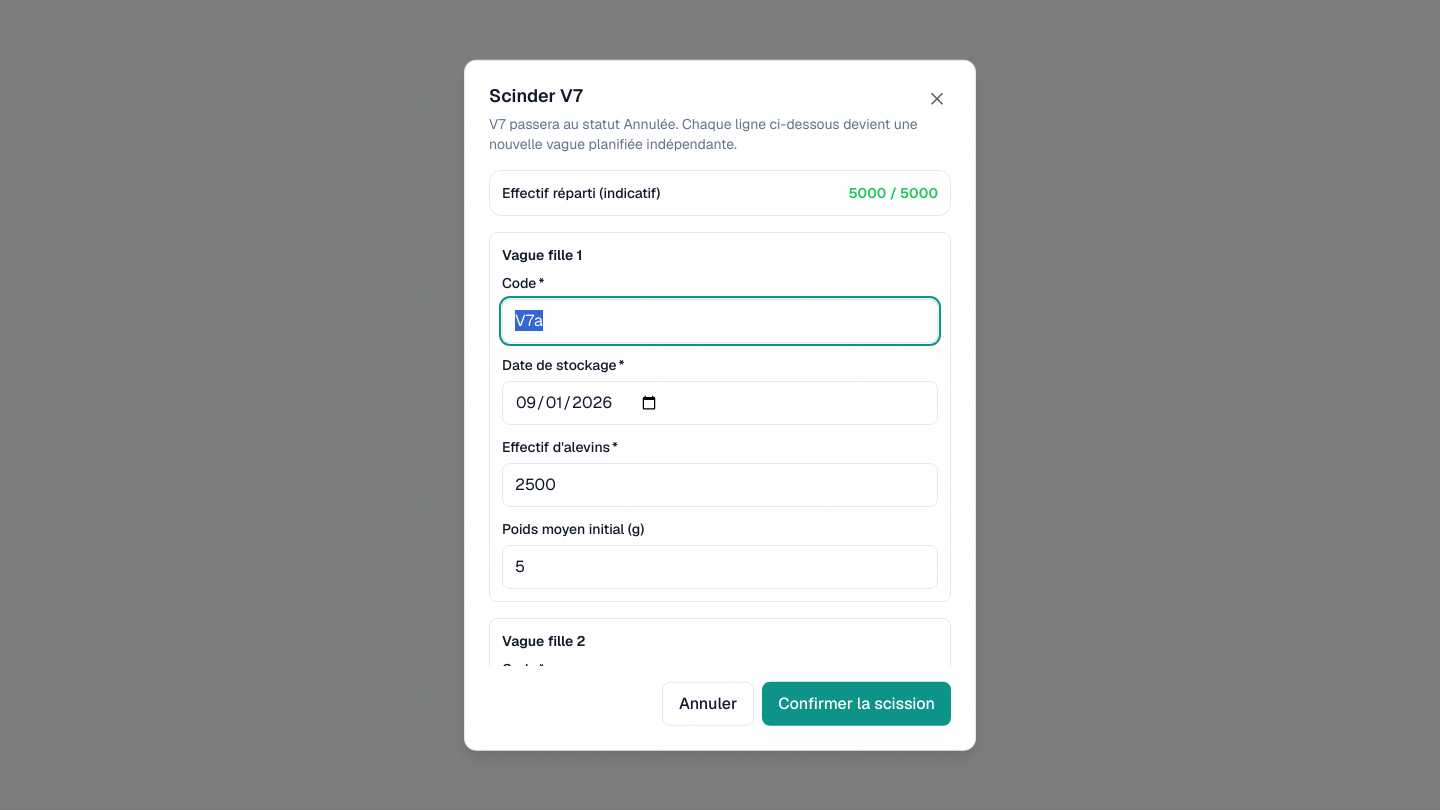
Test: ScissionDialog — validation des champs requis avant soumission › vider le code d'une ligne désactive le bouton de confirmation
The image size is (1440, 810).
Clear the field labelled "Code*" at {"x": 720, "y": 320}, box left=502, top=298, right=938, bottom=342
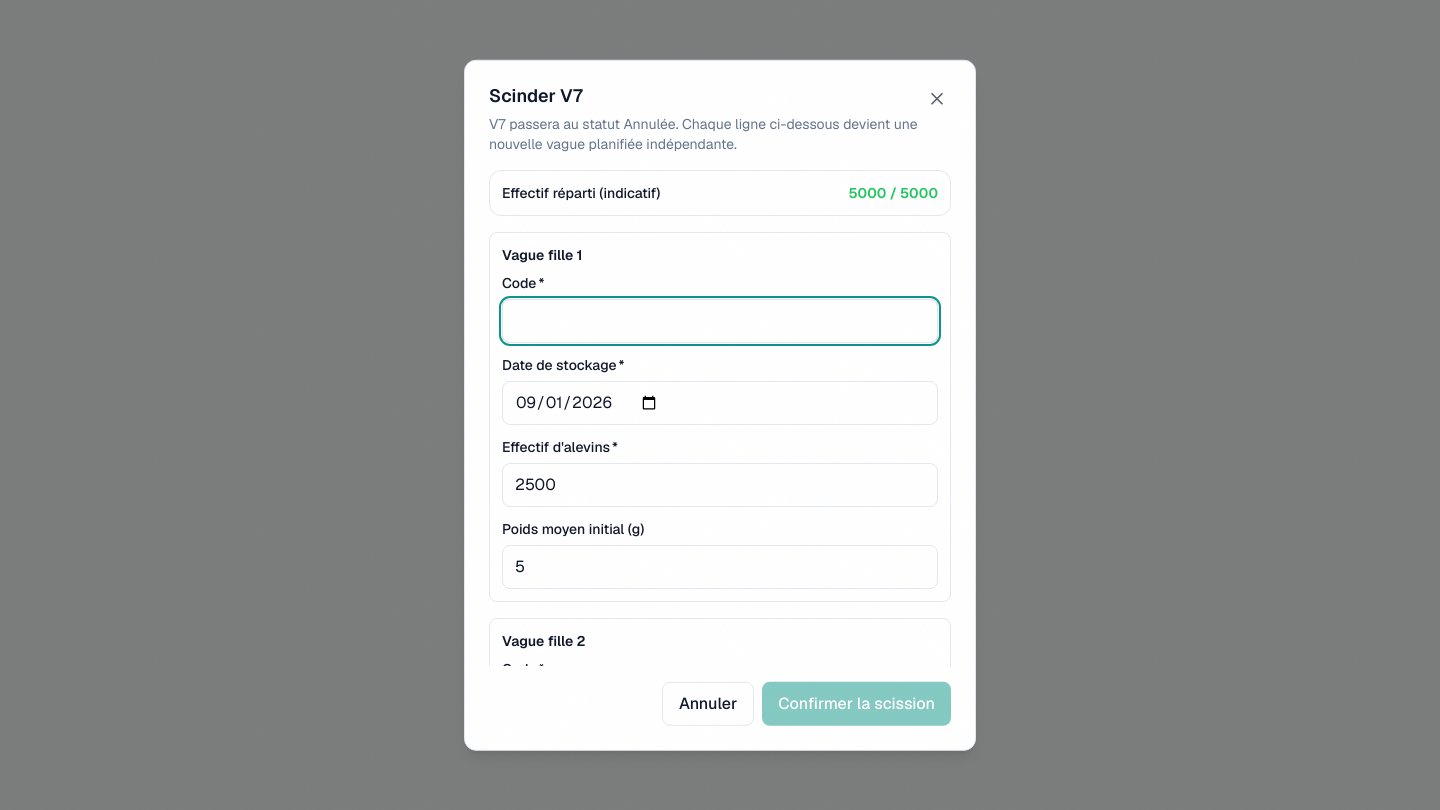
Result: the button "Confirmer la scission" is disabled at left=762, top=681, right=951, bottom=725
